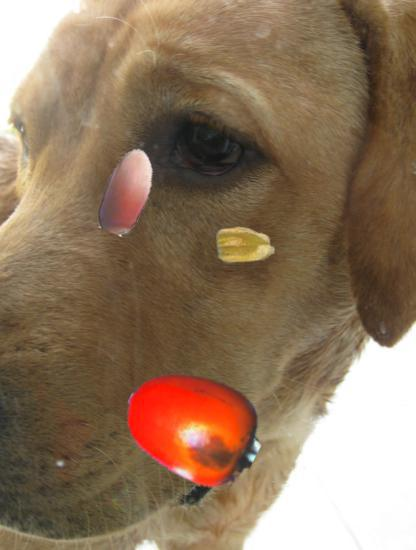Hazelnut: (83, 146, 174, 237)
Kaki: (124, 356, 263, 495)
Physalis: (216, 215, 275, 274)
